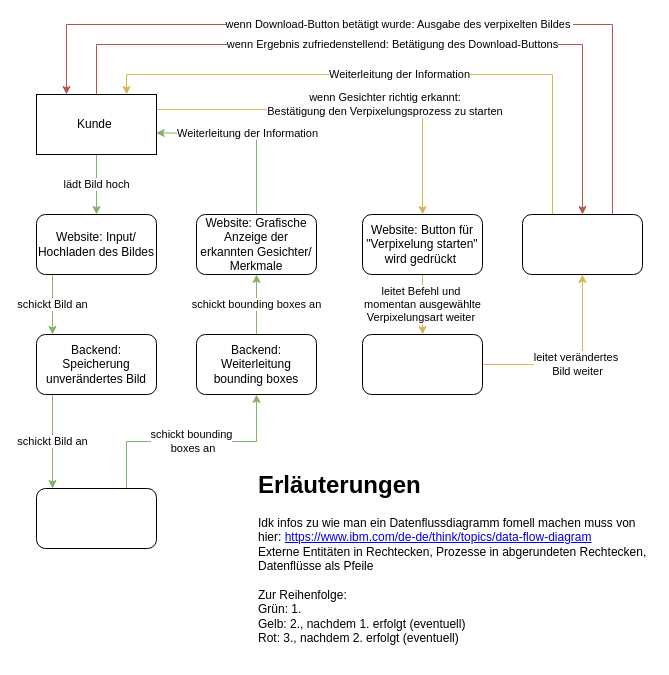
The diagram is 669 pixels wide and 675 high, and some of its shapes have lost their labels. The shapes that lost their labels are listed below. From the top down, each one's box as (x1, y1, x2, y2) in pixels, then its label:
(522, 214, 642, 274): Website: Anzeige des verpixelten Bildes
(362, 334, 482, 394): Backend: Bildmanipulation
(36, 488, 156, 548): API: führt Gesichtserkennung durch
